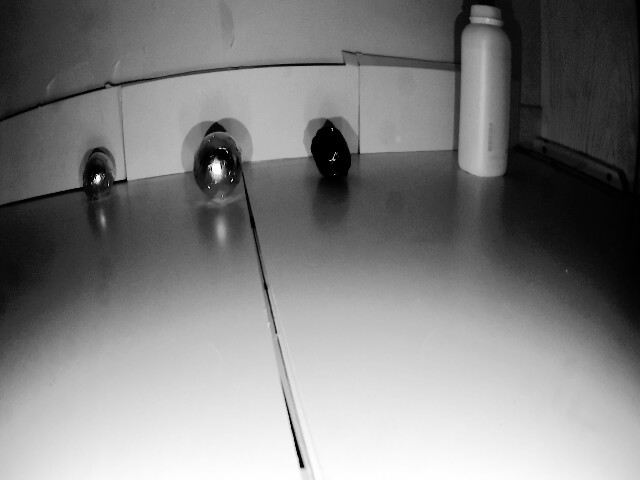black: (310, 127, 353, 185)
silver: (196, 130, 243, 199), (79, 151, 116, 194)
